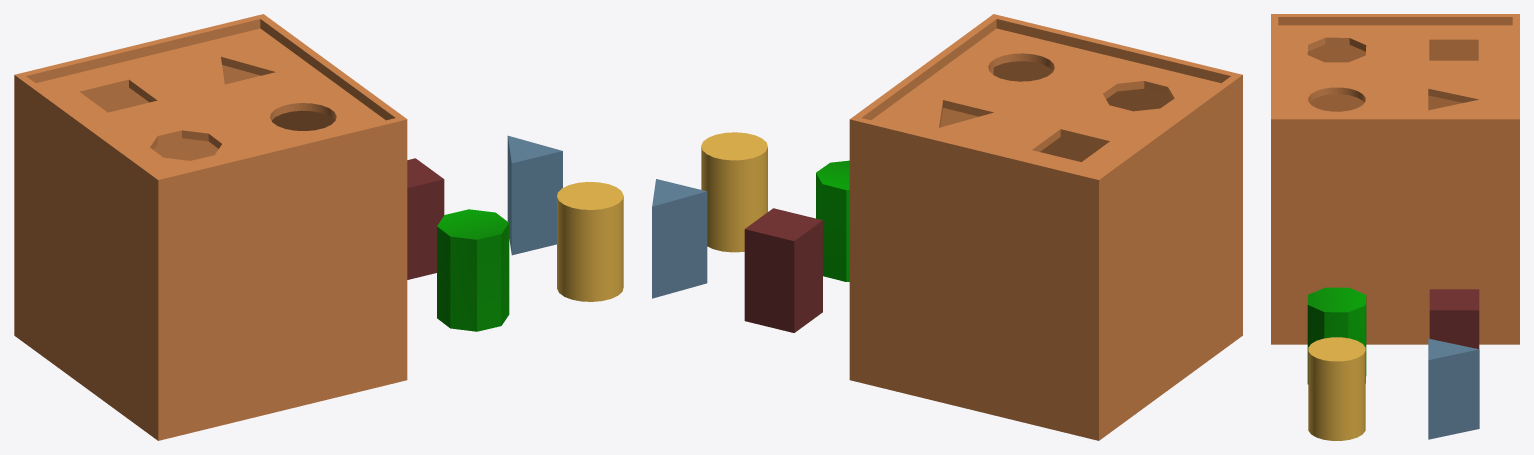
The model's file is SM_Jouet_Formes.fbx.
3 renders of one model, left to right at view 1: azimuth 30°, elevation 25°; view 2: azimuth 150°, elevation 25°; view 3: azimuth 270°, elevation 25°, orthographic. The views are drawn at different scales.
Parts seen in each view (by area): view 1: Boite, Octogone, Cercle, Triangle, Carre; view 2: Boite, Carre, Cercle, Triangle, Octogone; view 3: Boite, Cercle, Triangle, Octogone, Carre.
Boxes of the visible parts, box(x1,y1,x2,y2) form: Boite: box(14, 14, 407, 440); Octogone: box(437, 209, 509, 331); Cercle: box(557, 182, 623, 301); Triangle: box(507, 135, 562, 255); Carre: box(407, 158, 444, 279); Boite: box(849, 14, 1242, 440); Carre: box(744, 208, 822, 332); Cercle: box(701, 132, 767, 252); Triangle: box(652, 179, 707, 298); Octogone: box(816, 160, 849, 281); Boite: box(1271, 14, 1519, 344); Cercle: box(1308, 337, 1365, 440); Triangle: box(1428, 338, 1479, 439); Octogone: box(1307, 287, 1366, 384); Carre: box(1429, 289, 1479, 349).
Size of the model in its own units: 73.27 by 36.61 by 36.61.
